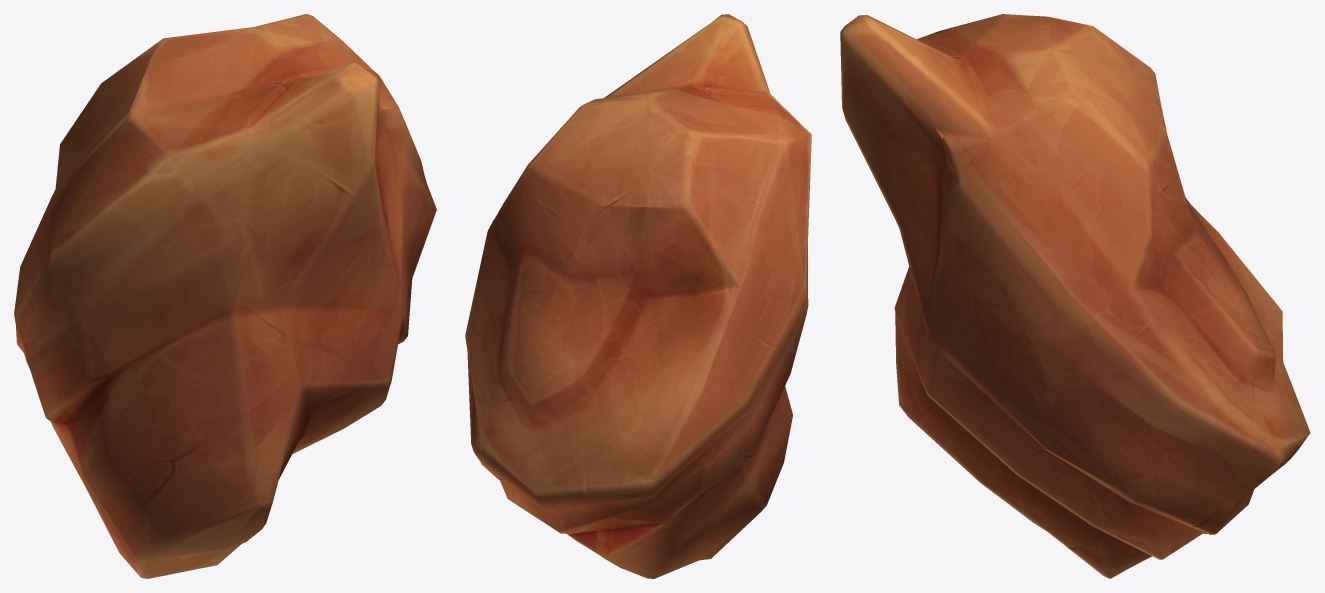
The model's file is DE_Rock_14.fbx.
The picture shows the model from 3 angles, left to right: view 1: azimuth 30°, elevation 25°; view 2: azimuth 150°, elevation 25°; view 3: azimuth 270°, elevation 25°; orthographic projection. The views are drawn at different scales.
Parts seen in each view (by area): view 1: DE_Rock_14; view 2: DE_Rock_14; view 3: DE_Rock_14.
Boxes of the visible parts, x1,y1,x2,y2 form: DE_Rock_14: [14, 14, 436, 578]; DE_Rock_14: [465, 14, 811, 578]; DE_Rock_14: [840, 14, 1310, 578].
Size of the model in its own units: 6.62 by 9.77 by 7.39.
